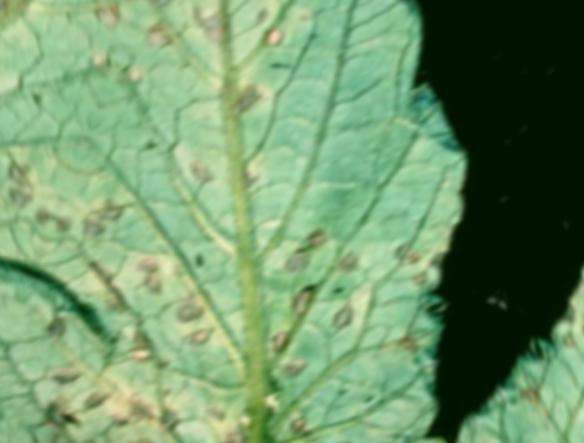Tomato Septoria leaf spot: (0, 0, 584, 443), (266, 388, 442, 443)
